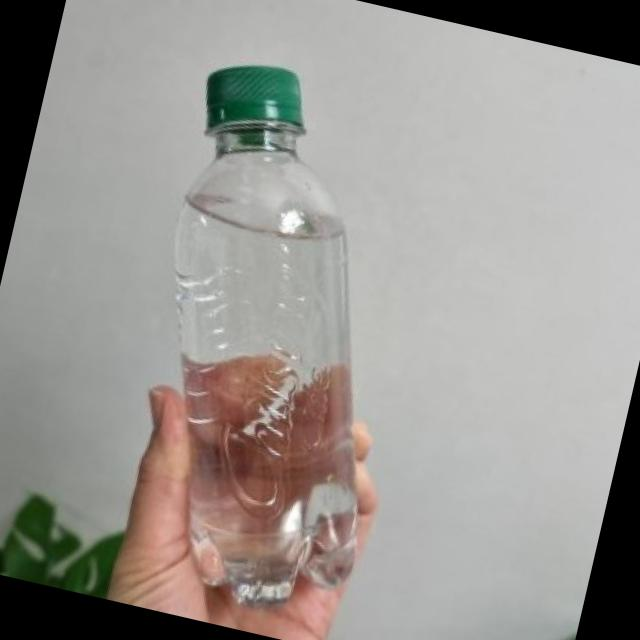plastic_bottle: (93, 52, 458, 628)
